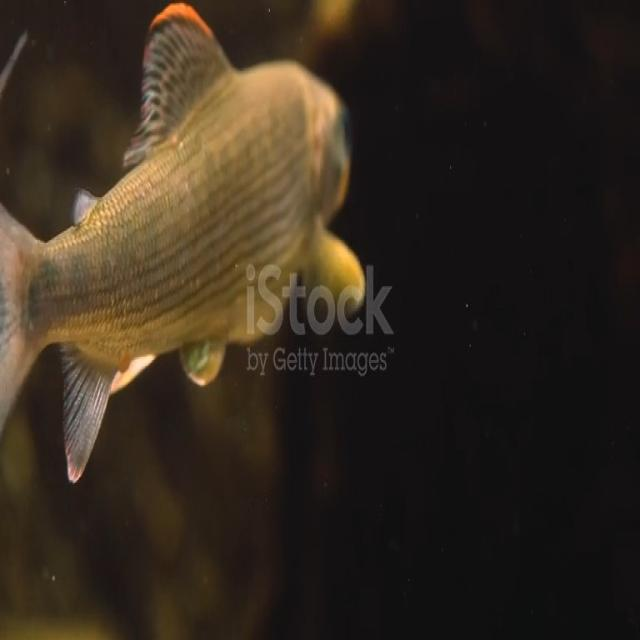fish: (2, 1, 374, 486)
